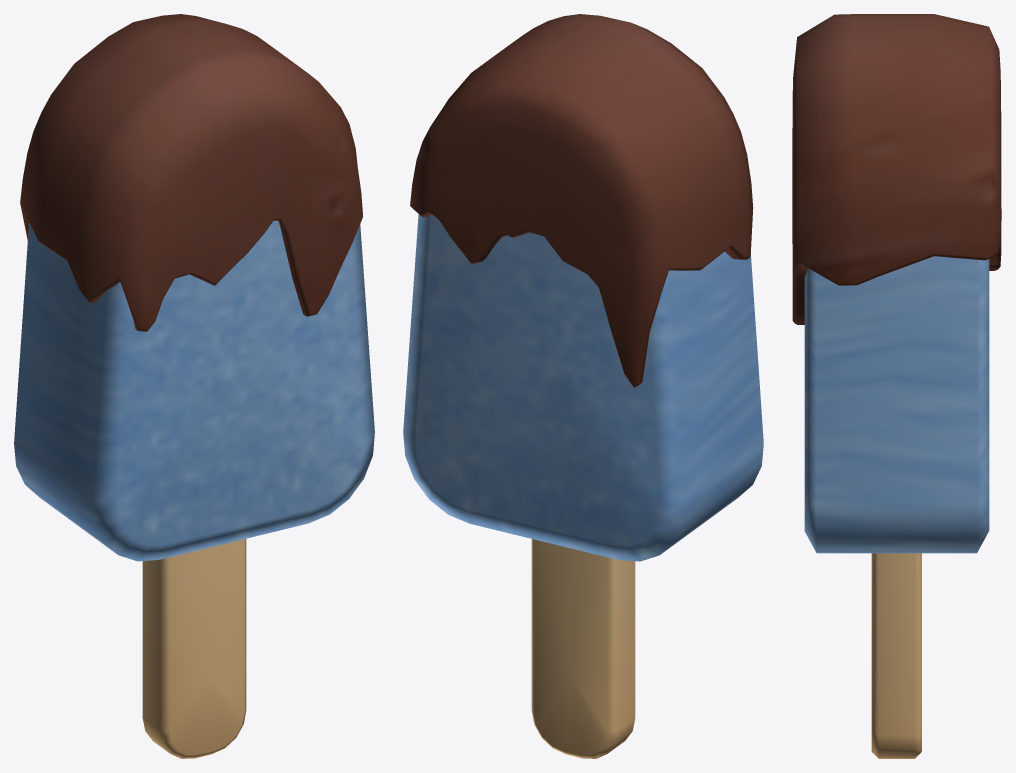
The model's file is Ice_cream_2.fbx.
3 views of the same model, side by side, from view 1: azimuth 30°, elevation 25°; view 2: azimuth 150°, elevation 25°; view 3: azimuth 270°, elevation 25° (orthographic). The views are drawn at different scales.
Parts seen in each view (by area): view 1: Ice_cream_2; view 2: Ice_cream_2; view 3: Ice_cream_2.
Boxes of the visible parts, <box> form: Ice_cream_2: <box>14,14,374,758</box>; Ice_cream_2: <box>403,14,763,758</box>; Ice_cream_2: <box>792,14,1001,758</box>.
Bounding box in the file's own units: 5.38 × 12.95 × 3.39.
